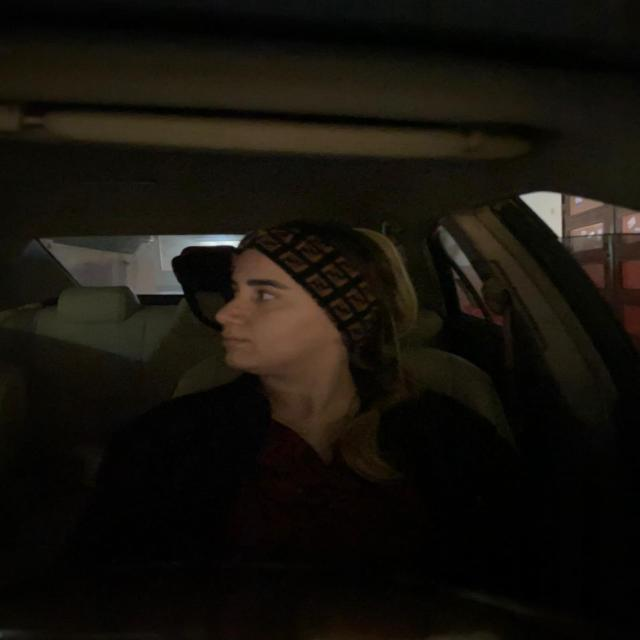LeftRight: (209, 206, 412, 392)
